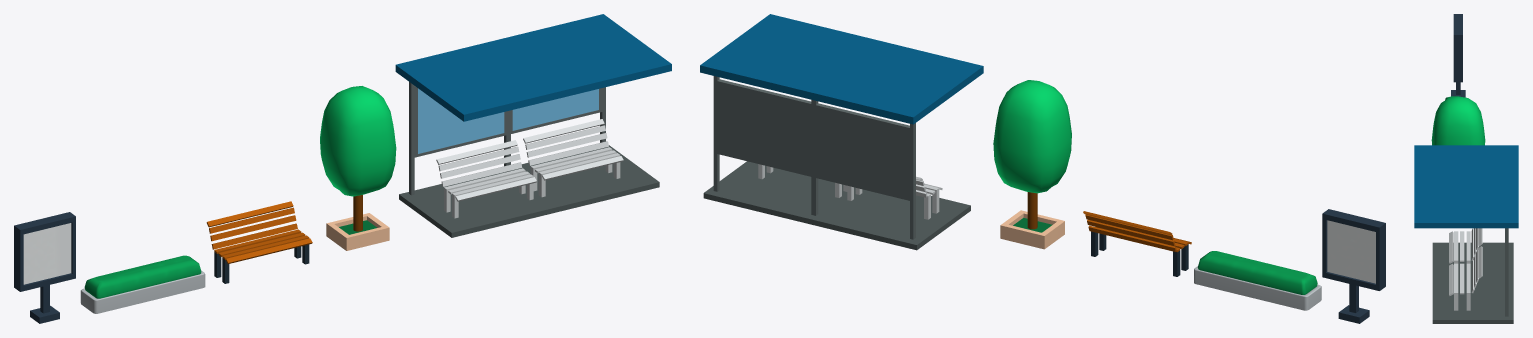
File: street_props.fbx
3 views of the same model, side by side, from view 1: azimuth 30°, elevation 25°; view 2: azimuth 150°, elevation 25°; view 3: azimuth 270°, elevation 25° (orthographic). The views are drawn at different scales.
Parts seen in each view (by area): view 1: bus_stop, trees, poster, bench, plant; view 2: bus_stop, trees, poster, plant, bench; view 3: bus_stop, trees, poster.
Boxes of the visible parts, <box> form: bus_stop: <box>395,14,671,237</box>; trees: <box>320,86,396,250</box>; poster: <box>14,212,75,323</box>; bench: <box>206,201,312,283</box>; plant: <box>80,255,205,313</box>; bus_stop: <box>700,14,983,250</box>; trees: <box>993,80,1071,249</box>; poster: <box>1322,209,1385,323</box>; plant: <box>1194,251,1321,310</box>; bench: <box>1083,211,1191,276</box>; bus_stop: <box>1414,145,1518,323</box>; trees: <box>1431,96,1485,145</box>; poster: <box>1451,14,1465,97</box>.
Size of the model in its own units: 29.15 by 6.91 by 5.52.
